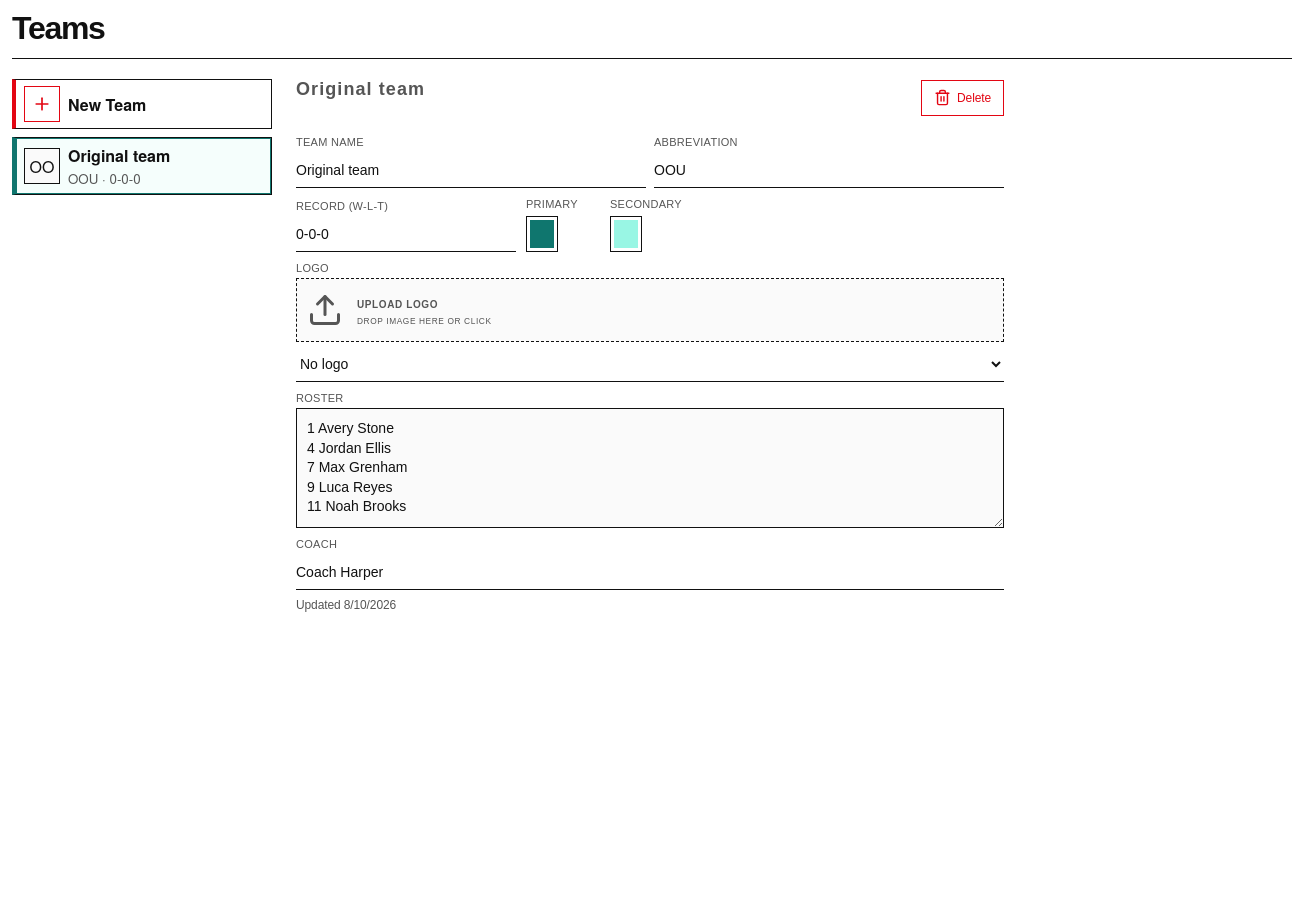
Test: TeamsLibrary concurrency and reconciliation › retries a canceled pending autosave when deletion fails
This screenshot has width=1292, height=912.
Replace the text in the field labelled "Team name" with "Unsaved local team" at (471, 170), box [296, 152, 646, 188]
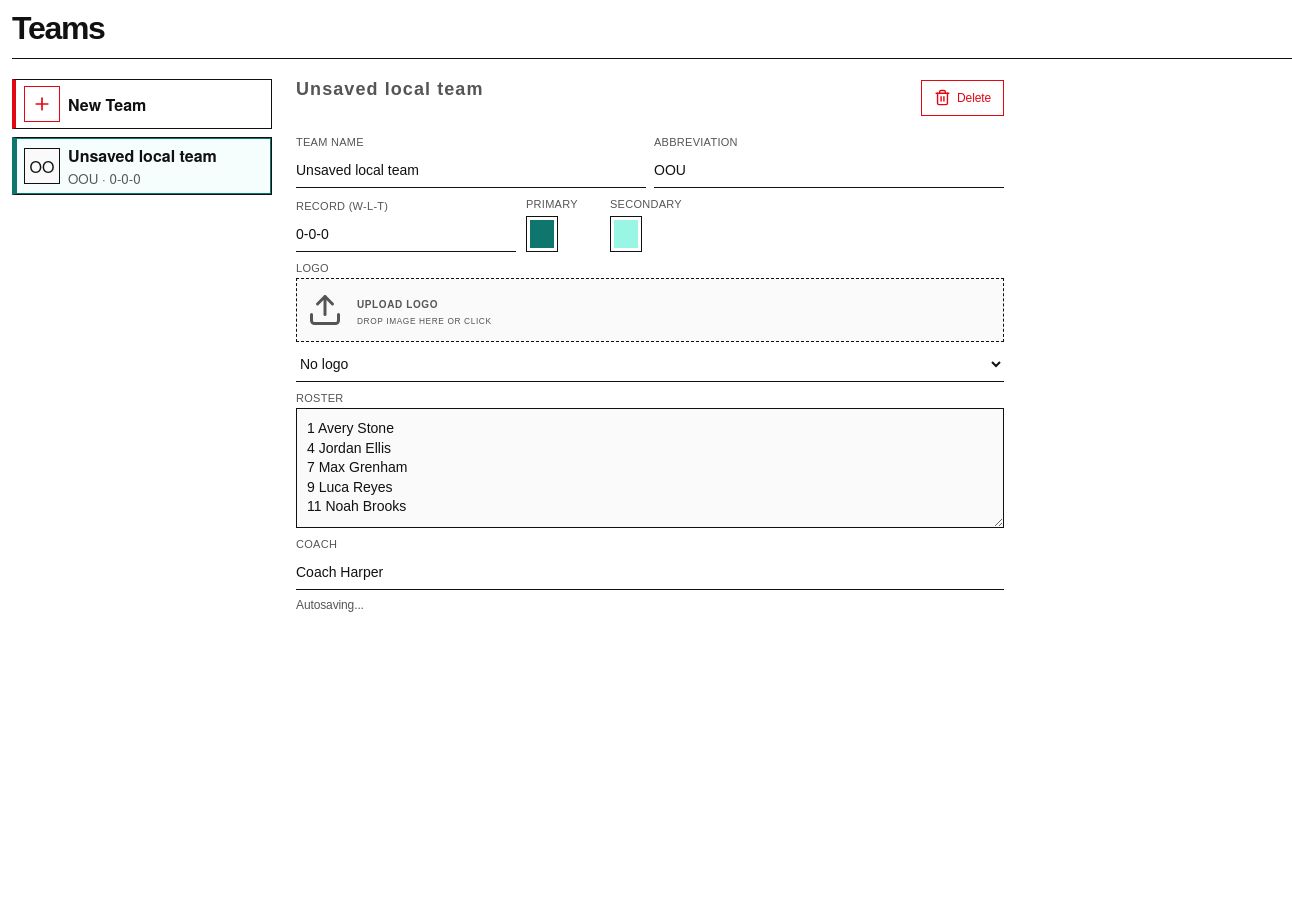
Click the button "Delete" at (962, 98), box [921, 80, 1004, 116]
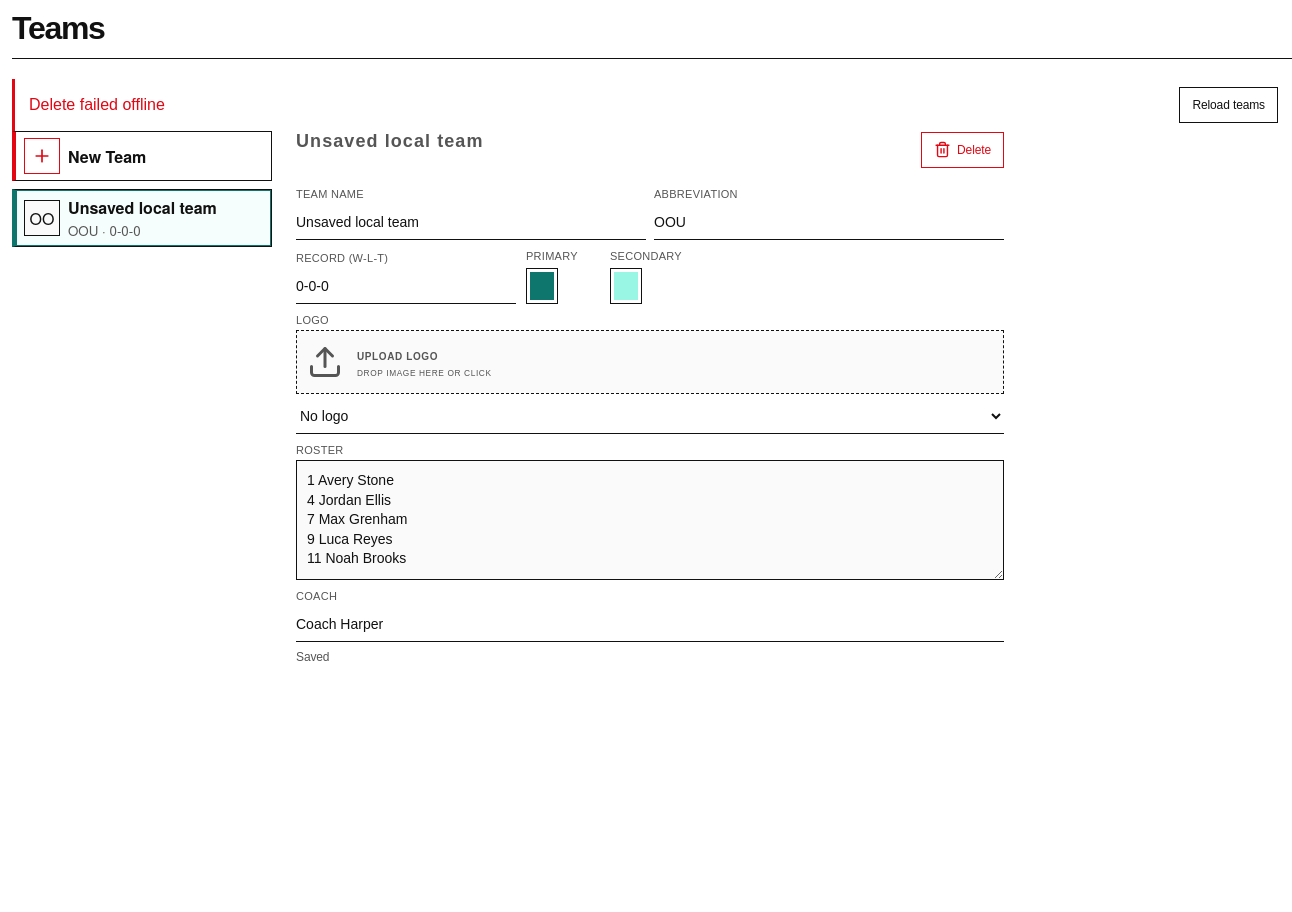
expect the text "Delete failed offline" is shown: met, box [29, 96, 165, 114]
